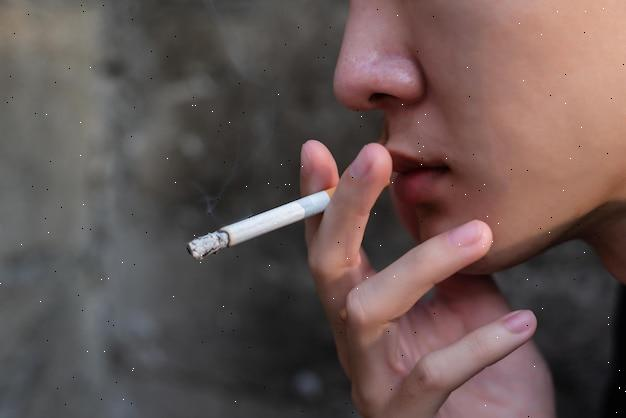cigarette: (187, 187, 334, 259)
